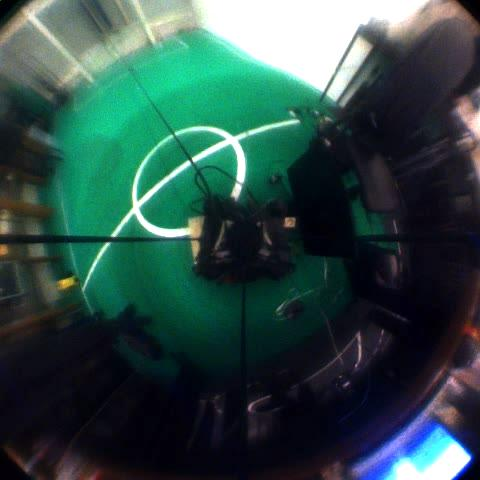ball: (59, 274, 79, 293)
goal: (21, 8, 96, 82), (131, 1, 158, 45)
person: (76, 0, 106, 42), (91, 0, 120, 33)
robot: (9, 52, 71, 108)
